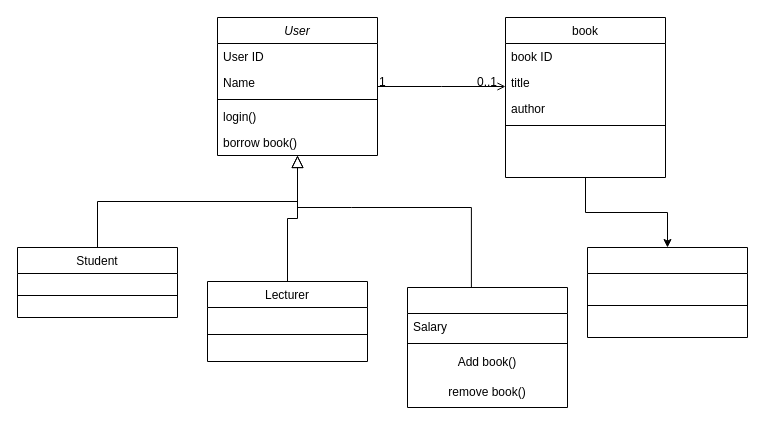
Image size: 765x425. Some labels were removed from this diagram. Each missing label, with the box of its shape:
Librarian: (406, 286, 568, 408)
reference book: (586, 246, 748, 338)
